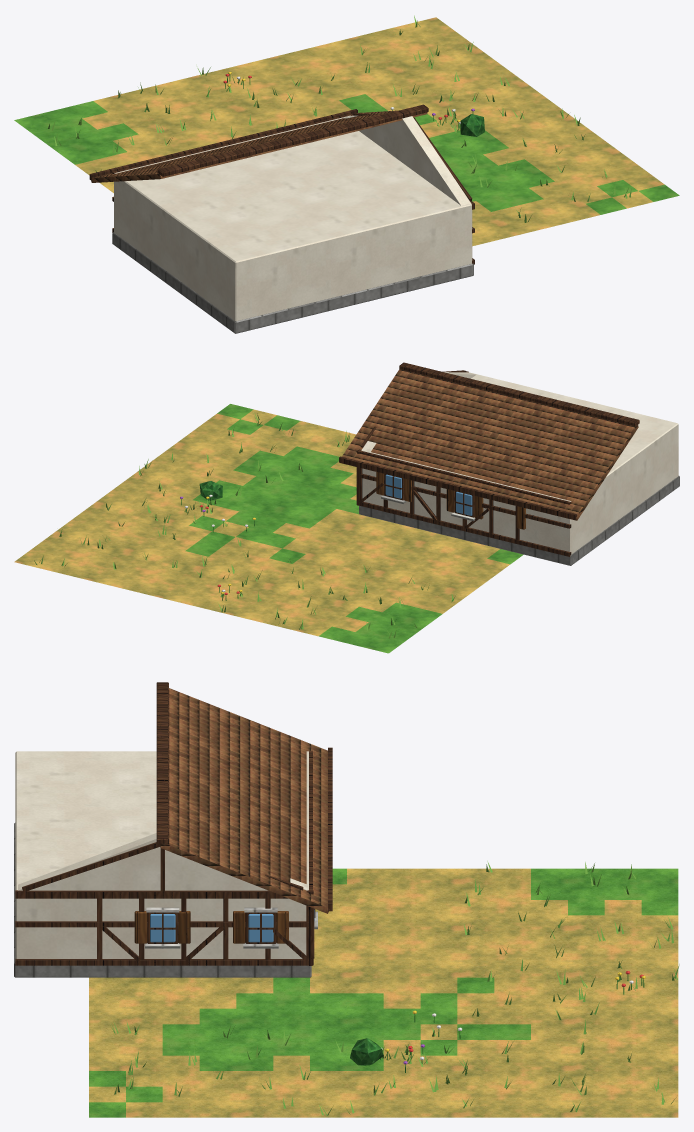
Rendered from chunk_10_9.glb.
3 renders of one model, top to bottom at view 1: azimuth 30°, elevation 25°; view 2: azimuth 150°, elevation 25°; view 3: azimuth 270°, elevation 25°, orthographic. The views are drawn at different scales.
Visible parts, largest first — view 1: chunk_10_9; view 2: chunk_10_9; view 3: chunk_10_9.
Part boxes in pixels (bbox=[...]): chunk_10_9: bbox=[14, 15, 679, 333]; chunk_10_9: bbox=[14, 362, 679, 653]; chunk_10_9: bbox=[14, 682, 679, 1117].
Bounding box in the file's own units: 18.55 × 4.5 × 18.08.
Materials: 16 (10 with a texture image).
